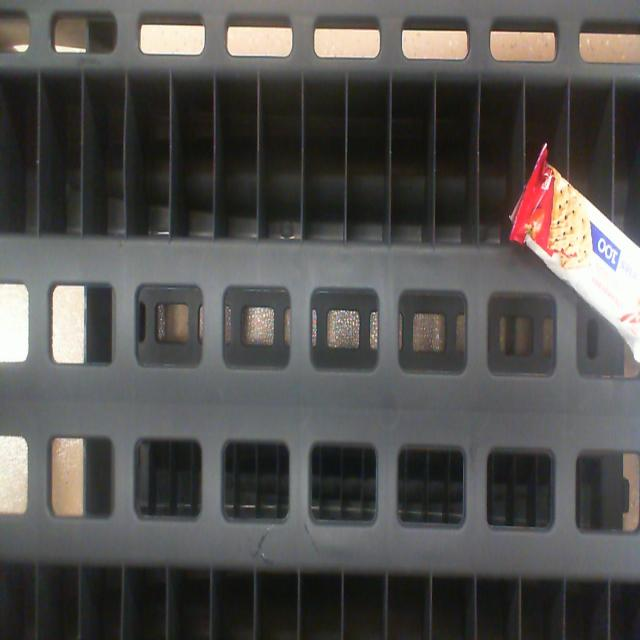snack: (514, 153, 640, 357)
